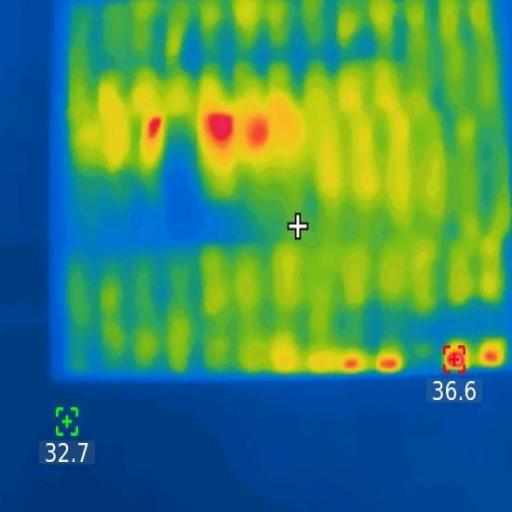hotspot: (208, 110, 234, 142), (442, 342, 467, 375), (143, 113, 166, 143), (248, 119, 272, 147), (378, 358, 403, 372), (482, 348, 500, 366), (342, 358, 360, 370)
